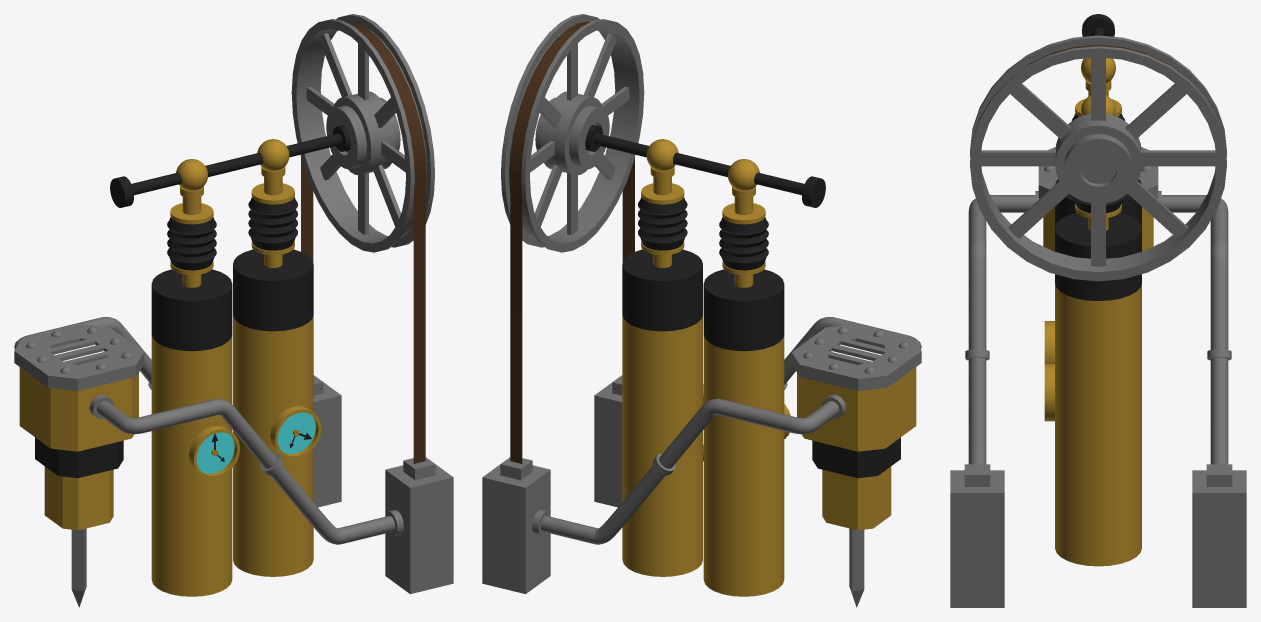
File: Mina.fbx
The picture shows the model from 3 angles, left to right: view 1: azimuth 30°, elevation 25°; view 2: azimuth 150°, elevation 25°; view 3: azimuth 270°, elevation 25°; orthographic projection. The views are drawn at different scales.
Parts seen in each view (by area): view 1: Cilindro, Ferro, Roda, Britadeira, Cylinder.098, Relogios.001, Sanfona2, Sanfona1, Aste, Estaca; view 2: Cilindro, Ferro, Roda, Britadeira, Cylinder.098, Sanfona2, Sanfona1, Aste, Estaca; view 3: Cilindro, Roda, Ferro, Britadeira, Relogios.001, Aste, Sanfona2.
Part boxes in pixels (x1,y1,x2,y2): Cilindro: (151, 139, 313, 596); Ferro: (14, 317, 453, 594); Roda: (291, 14, 434, 252); Britadeira: (14, 324, 144, 530); Cylinder.098: (301, 21, 426, 463); Relogios.001: (189, 406, 321, 478); Sanfona2: (248, 183, 297, 255); Sanfona1: (167, 203, 216, 274); Aste: (110, 124, 350, 207); Estaca: (71, 528, 86, 607); Cilindro: (622, 139, 784, 596); Ferro: (482, 317, 921, 594); Roda: (501, 14, 644, 252); Britadeira: (791, 324, 921, 530); Cylinder.098: (509, 21, 634, 463); Sanfona2: (638, 183, 687, 255); Sanfona1: (719, 203, 768, 274); Aste: (585, 124, 825, 207); Estaca: (849, 528, 864, 607); Cilindro: (1055, 58, 1141, 566); Roda: (970, 35, 1226, 281); Ferro: (950, 191, 1246, 607); Britadeira: (1038, 147, 1158, 251); Relogios.001: (1044, 321, 1054, 421); Aste: (1082, 14, 1114, 36); Sanfona2: (1072, 196, 1124, 218).
Size of the model in its own units: 202 by 279 by 135.
